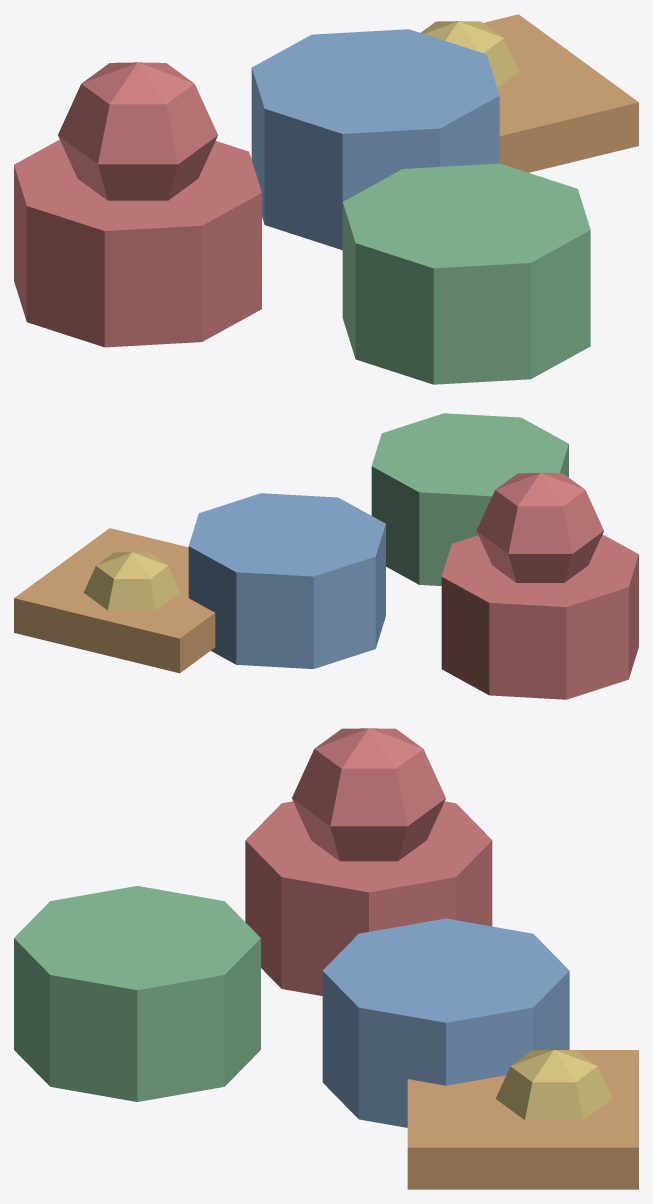
The model's file is kid_massa.glb.
3 views of the same model, one above another, from view 1: azimuth 30°, elevation 25°; view 2: azimuth 150°, elevation 25°; view 3: azimuth 270°, elevation 25° (orthographic). The views are drawn at different scales.
Parts seen in each view (by area): view 1: KID_MASSA_v01; view 2: KID_MASSA_v01; view 3: KID_MASSA_v01.
Part boxes in pixels (x1=…): KID_MASSA_v01: x1=14, y1=14, x2=638, y2=384; KID_MASSA_v01: x1=14, y1=413, x2=638, y2=699; KID_MASSA_v01: x1=14, y1=728, x2=638, y2=1189.
Size of the model in its own units: 0.455 by 0.17 by 0.405.
